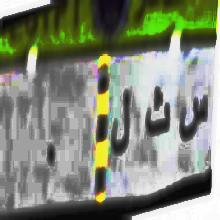0: (44, 131, 59, 178)
laam: (108, 86, 132, 168)
seen: (178, 86, 210, 149)
thaa: (145, 82, 170, 145)
